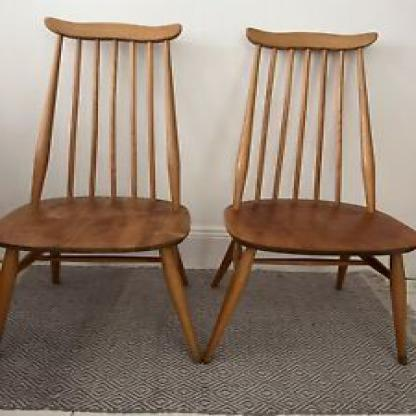chair: (203, 20, 416, 367), (0, 14, 197, 367)
